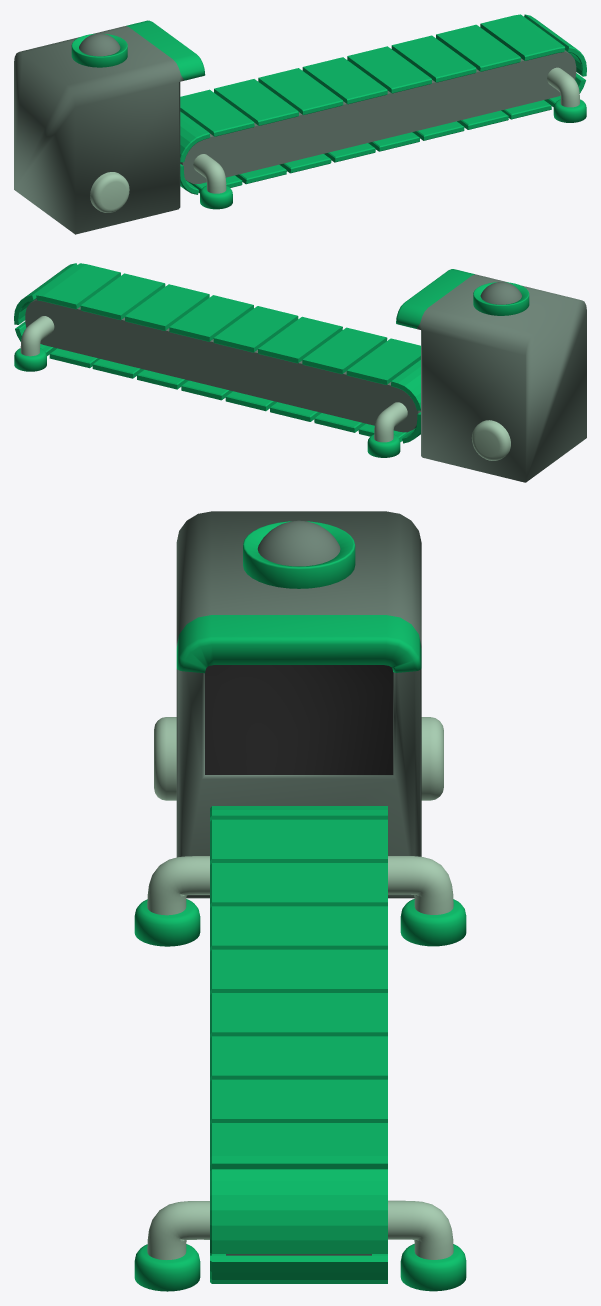
The model's file is esteira.fbx.
3 renders of one model, top to bottom at view 1: azimuth 30°, elevation 25°; view 2: azimuth 150°, elevation 25°; view 3: azimuth 270°, elevation 25°, orthographic. The views are drawn at different scales.
Visible parts, largest first — view 1: Plane.003, Plane.001, Plane.002, Circle, Circle.001, Circle.009, Circle.002, Sphere, Circle.003, Circle.008; view 2: Plane.003, Plane.001, Plane.002, Circle, Circle.001, Circle.006, Circle.005, Sphere, Circle.007, Circle.004; view 3: Plane.001, Plane.003, Circle.001, Circle, Circle.005, Circle.006, Sphere, Circle.009, Circle.002, Circle.003, Circle.007, Circle.004 (+1 smaller).
Part boxes in pixels (left/top/right/bottom): Plane.003: left=14, top=20, right=205, bottom=234; Plane.001: left=180, top=14, right=586, bottom=194; Plane.002: left=180, top=50, right=576, bottom=183; Circle: left=90, top=172, right=129, bottom=212; Circle.001: left=71, top=33, right=127, bottom=67; Circle.009: left=193, top=154, right=226, bottom=193; Circle.002: left=547, top=67, right=579, bottom=107; Sphere: left=79, top=33, right=120, bottom=56; Circle.003: left=553, top=99, right=586, bottom=122; Circle.008: left=200, top=185, right=232, bottom=209; Plane.003: left=396, top=269, right=586, bottom=482; Plane.001: left=14, top=263, right=420, bottom=443; Plane.002: left=25, top=298, right=420, bottom=432; Circle: left=472, top=420, right=510, bottom=460; Circle.001: left=473, top=282, right=529, bottom=315; Circle.006: left=374, top=402, right=407, bottom=442; Circle.005: left=20, top=316, right=54, bottom=356; Sphere: left=480, top=282, right=521, bottom=304; Circle.007: left=367, top=434, right=400, bottom=457; Circle.004: left=14, top=348, right=46, bottom=371; Plane.001: left=210, top=806, right=387, bottom=1283; Plane.003: left=176, top=511, right=421, bottom=898; Circle.001: left=243, top=521, right=355, bottom=588; Circle: left=154, top=717, right=443, bottom=800; Circle.005: left=388, top=1200, right=453, bottom=1259; Circle.006: left=388, top=856, right=453, bottom=914; Sphere: left=257, top=520, right=340, bottom=566; Circle.009: left=147, top=856, right=209, bottom=915; Circle.002: left=147, top=1201, right=209, bottom=1259; Circle.003: left=134, top=1244, right=200, bottom=1291; Circle.007: left=400, top=899, right=466, bottom=946; Circle.004: left=400, top=1244, right=466, bottom=1291.
Bounding box in the file's own units: 809 × 242 × 224.
